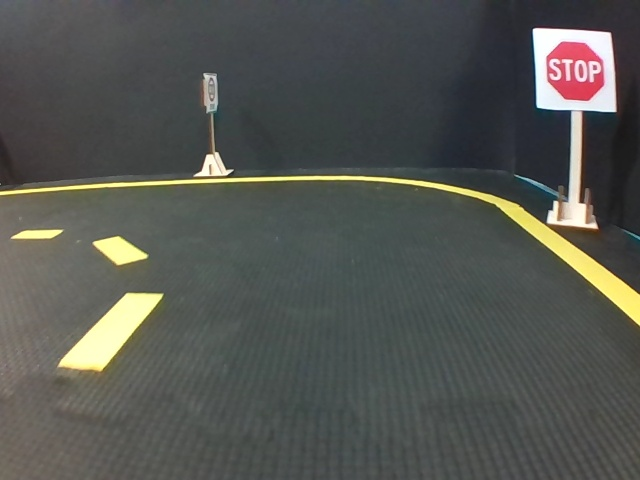30: (202, 73, 219, 110)
stop: (535, 29, 615, 111)
